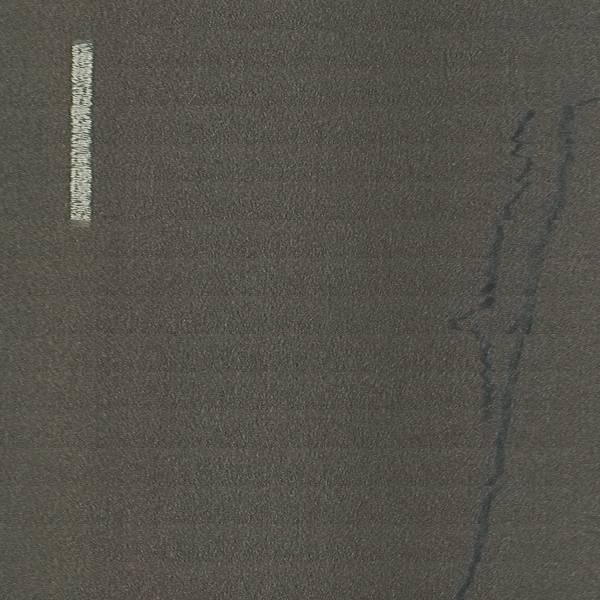road_damage: (432, 100, 581, 599)
